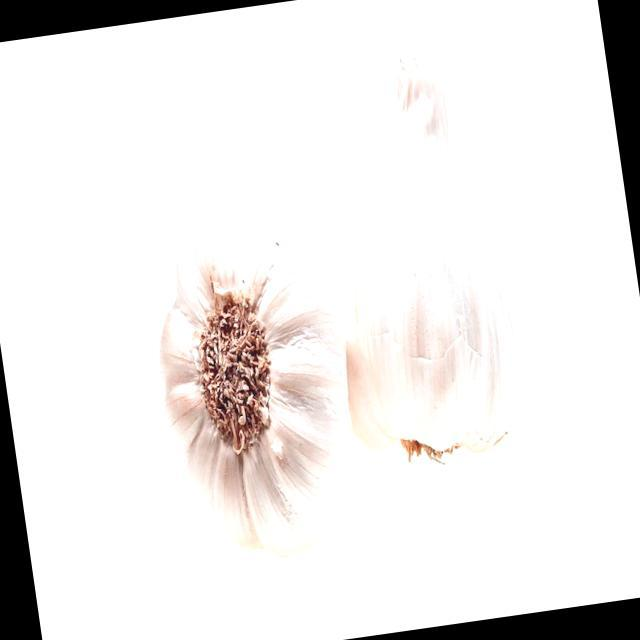garlic: (346, 78, 530, 462), (159, 212, 354, 545)
